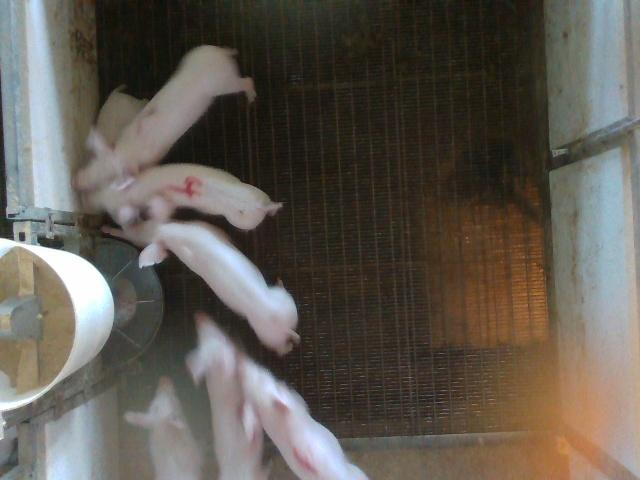pig-1: (239, 356, 368, 479)
pig-2: (75, 45, 256, 192)
pig-3: (186, 314, 262, 478)
pig-4: (81, 166, 281, 229)
